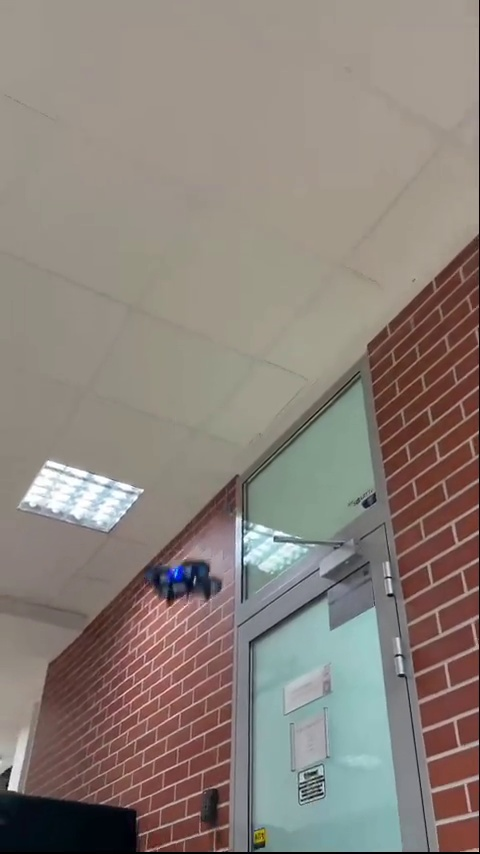drone: (141, 557, 224, 610)
